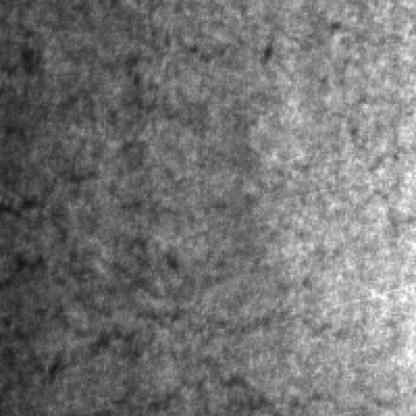crazing: (2, 237, 281, 416), (2, 4, 196, 248)
